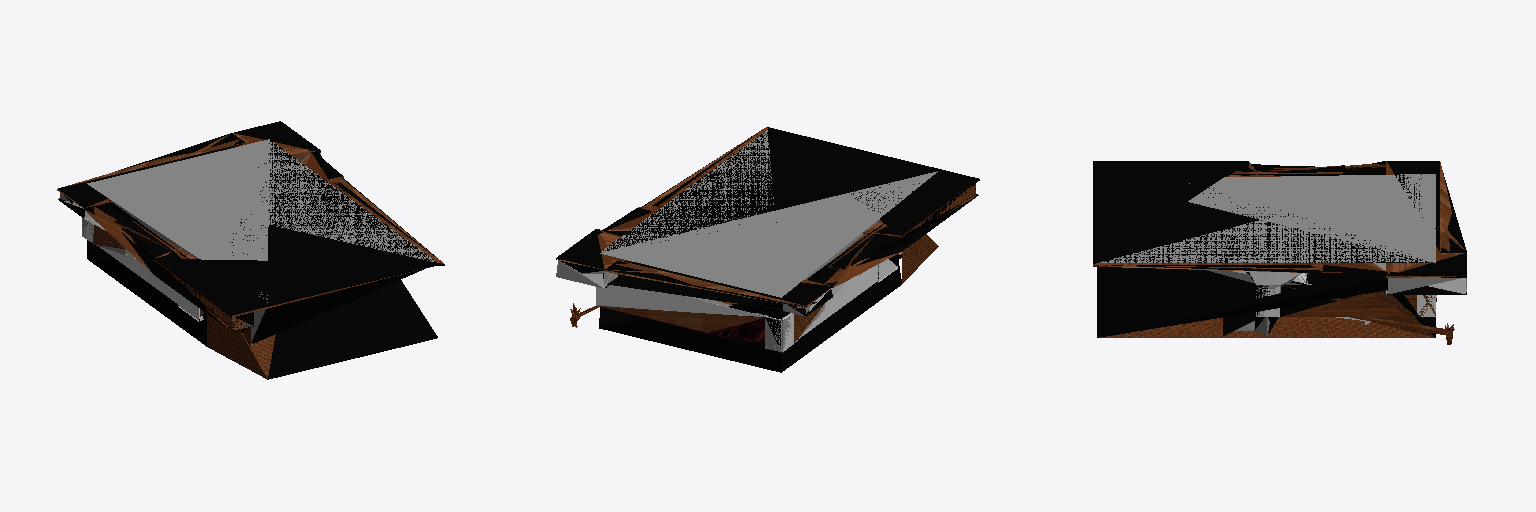
3 renders of one model, left to right at view 1: azimuth 30°, elevation 25°; view 2: azimuth 150°, elevation 25°; view 3: azimuth 270°, elevation 25°, orthographic.
Visible parts, largest first — view 1: stove, wood, bathroom_props; view 2: stove, wood, bathroom_props, kitchen_unit; view 3: stove, wood, walls, frame_window.
Part boxes in pixels (left/top/right/bottom): stove: left=58, top=121, right=444, bottom=379; wood: left=57, top=133, right=443, bottom=379; bathroom_props: left=82, top=222, right=203, bottom=321; stove: left=556, top=127, right=979, bottom=372; wood: left=556, top=127, right=978, bottom=343; bathroom_props: left=596, top=259, right=897, bottom=351; kitchen_unit: left=615, top=310, right=764, bottom=343; stove: left=1093, top=161, right=1466, bottom=337; wood: left=1093, top=161, right=1466, bottom=344; walls: left=1249, top=263, right=1423, bottom=296; frame_window: left=1256, top=285, right=1436, bottom=316.
Size of the model in its own units: 102 by 30.75 by 139.
29 materials, 11 textured.